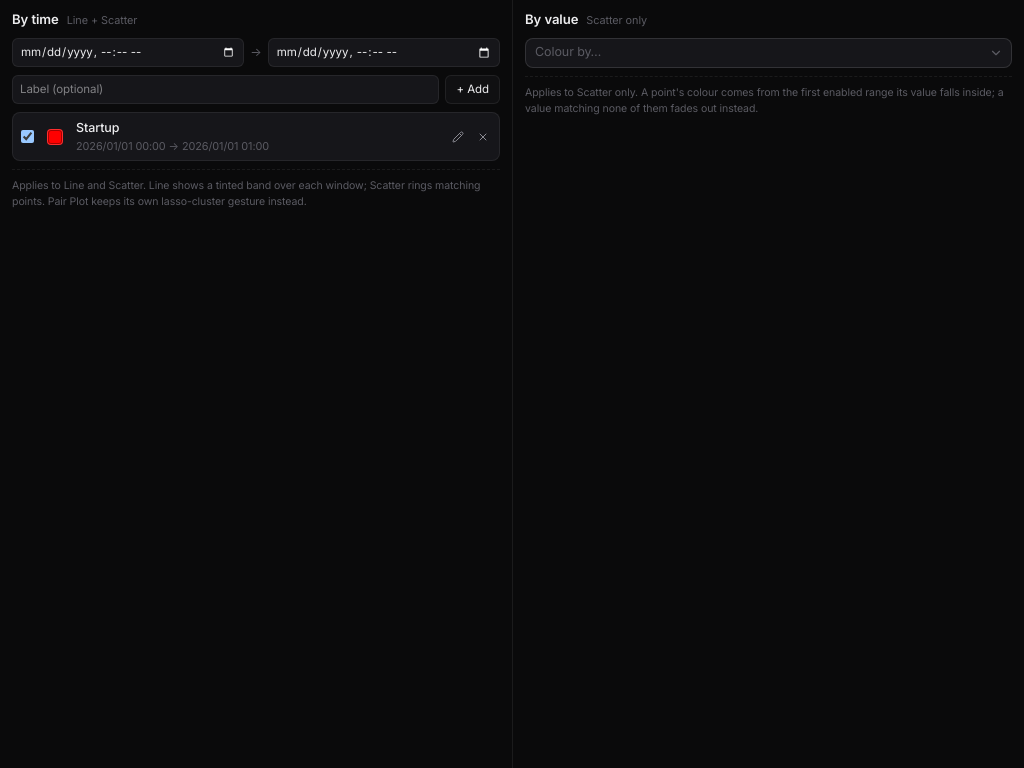
HighlightsPanel › By time (highlights) › clicking Rename turns the label into an editable text field, seeded with the current label
Click the button titled "Rename" at (458, 137), box [450,129,466,145]
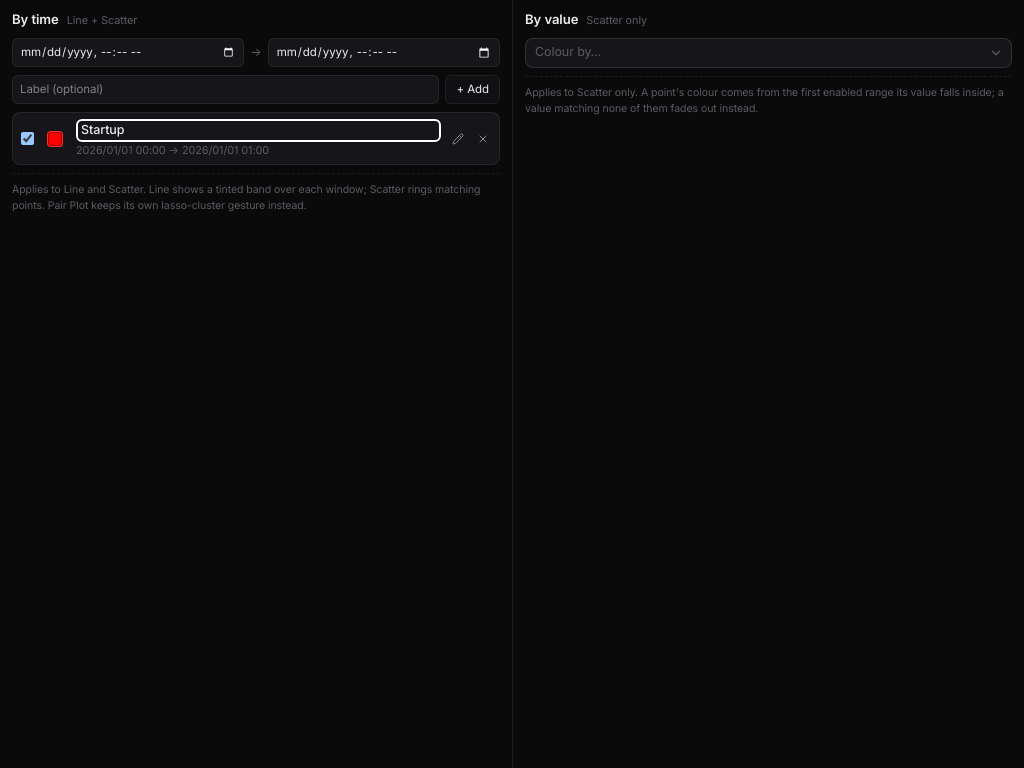
Result: the 3rd field showing "Startup" is shown at [76,119,441,142]
